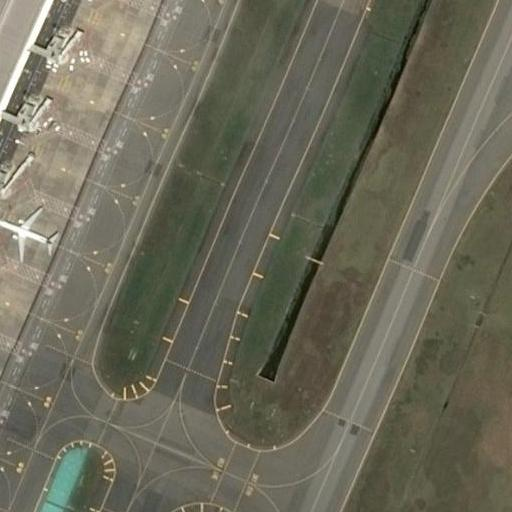Aircraft: (0, 204, 60, 263), (0, 203, 58, 263)
